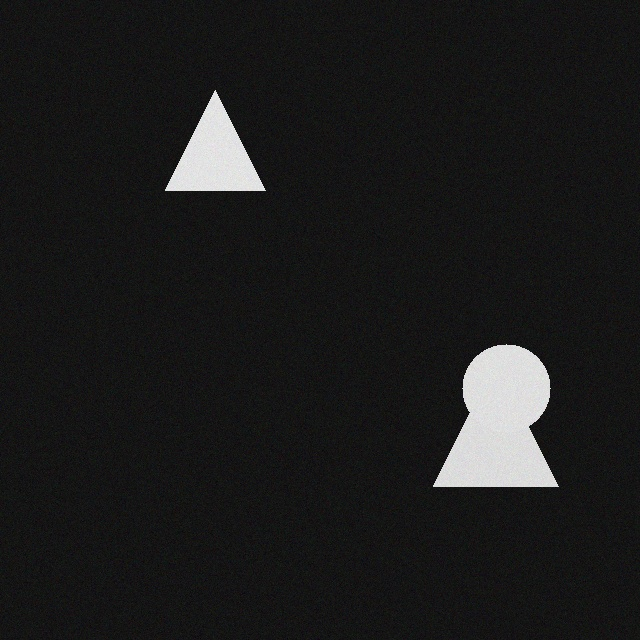circle: (474, 333, 562, 421)
triangle: (445, 350, 570, 475), (177, 79, 277, 179)
